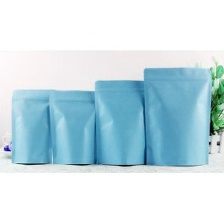snack: (138, 62, 215, 169), (90, 74, 152, 168), (44, 85, 100, 166), (7, 84, 59, 167)
